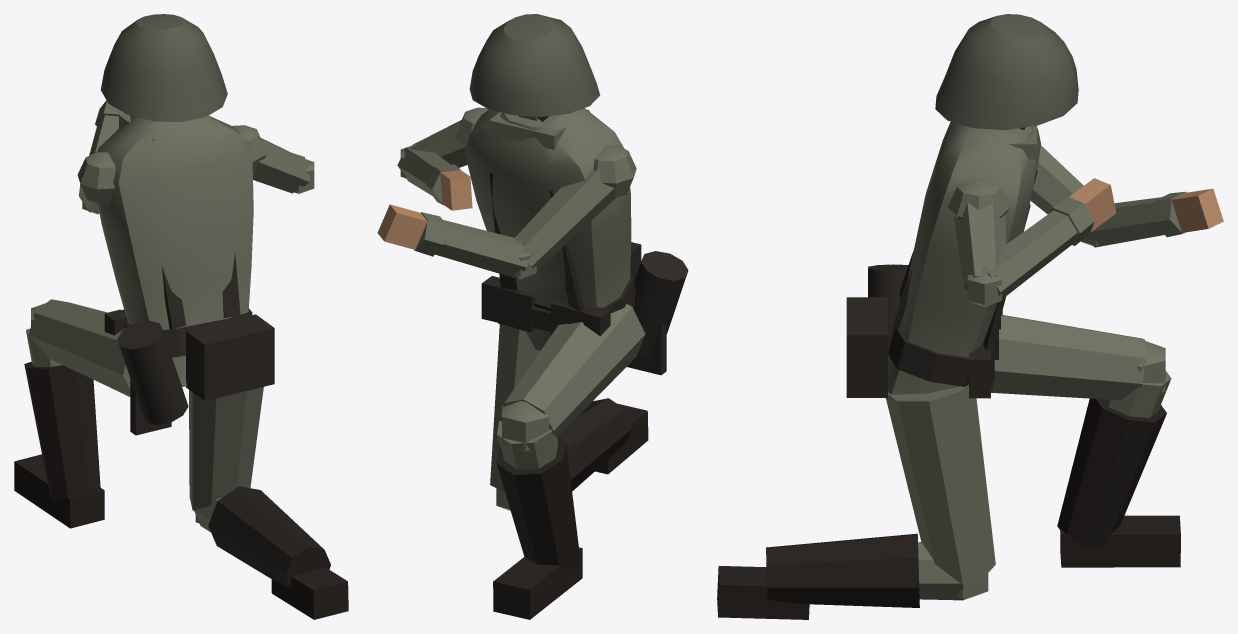
The model's file is soldier_de_kneel_fire.glb.
The picture shows the model from 3 angles, left to right: view 1: azimuth 30°, elevation 25°; view 2: azimuth 150°, elevation 25°; view 3: azimuth 270°, elevation 25°; orthographic projection. The views are drawn at different scales.
Visible parts, largest first — view 1: soldier_de_kneel_fire; view 2: soldier_de_kneel_fire; view 3: soldier_de_kneel_fire.
Boxes of the visible parts, x1,y1,x2,y2 form: soldier_de_kneel_fire: (14, 14, 348, 619); soldier_de_kneel_fire: (377, 14, 688, 619); soldier_de_kneel_fire: (717, 14, 1223, 619).
Size of the model in its own units: 0.6565 by 1.36 by 1.1.
